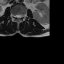CCS_normal: (17, 13, 19, 21)
LFS_normal: (21, 13, 23, 19)
LLS_normal: (19, 13, 21, 19)
RFS_normal: (13, 13, 15, 19)
RLS_normal: (15, 13, 17, 20)
